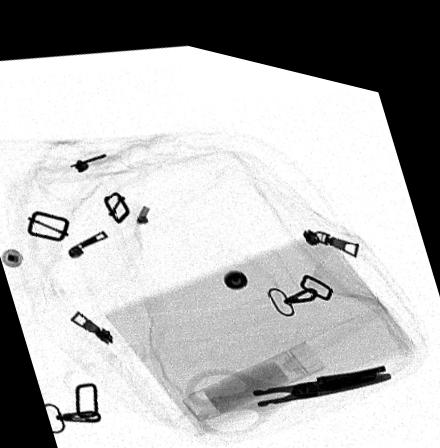Scissors: (177, 344, 394, 425)
